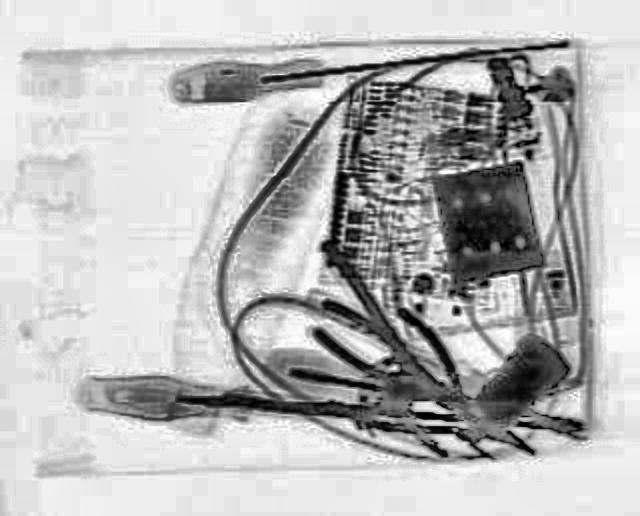Pliers: (304, 282, 568, 478), (280, 364, 588, 436)
